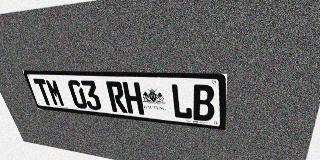0: (66, 80, 88, 109)
3: (80, 80, 102, 111)
B: (192, 84, 214, 122)
H: (122, 82, 144, 115)
L: (170, 83, 193, 120)
M: (44, 79, 66, 107)
R: (105, 81, 128, 113)
T: (33, 78, 54, 106)
